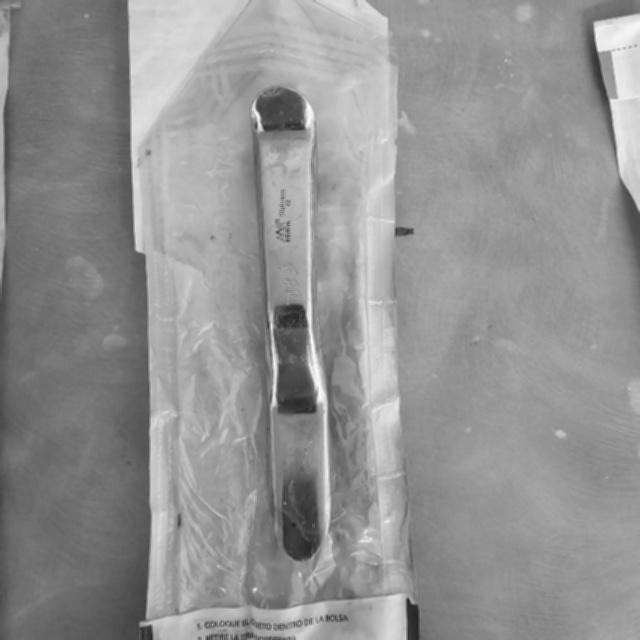separador: (252, 86, 329, 563)
